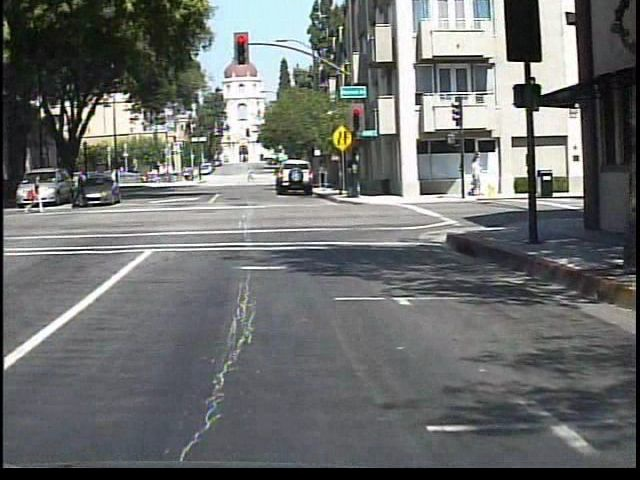person: (23, 174, 45, 217), (67, 169, 88, 212), (247, 168, 255, 186)
